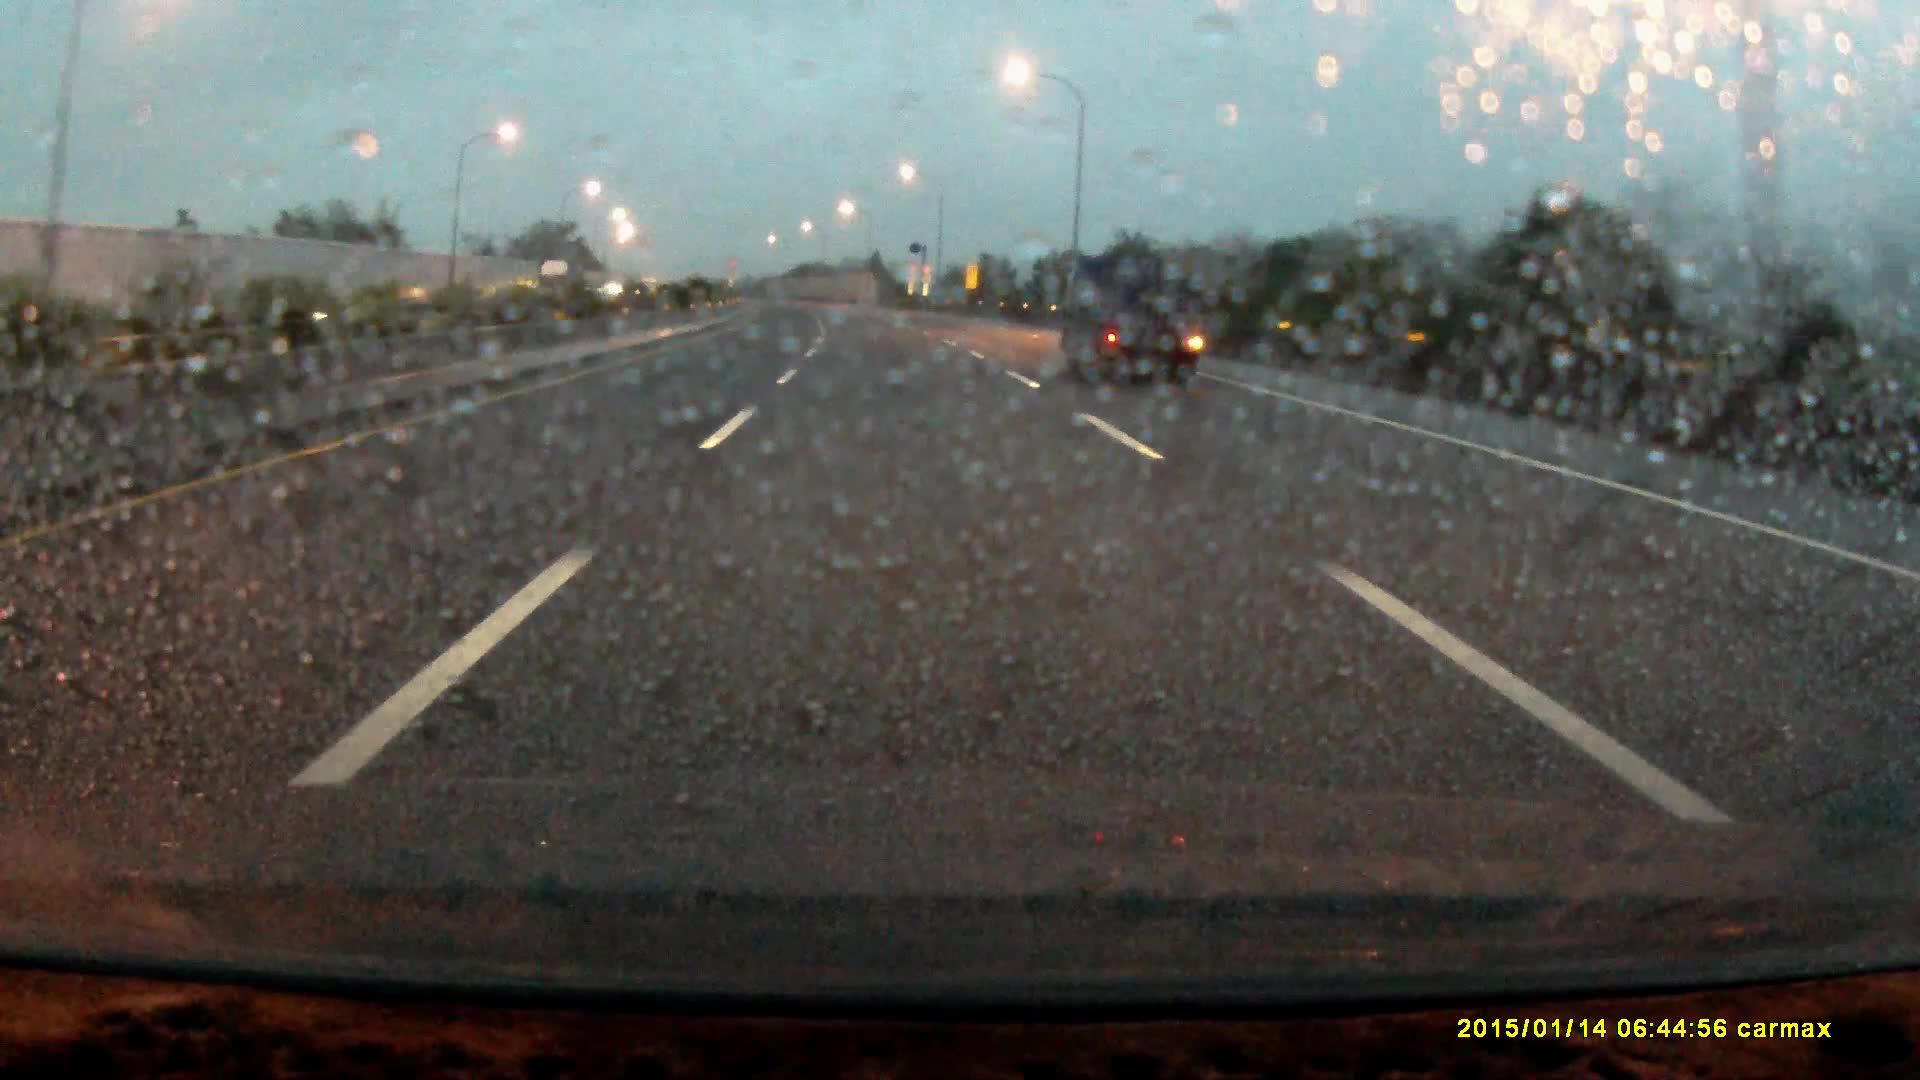vehicle: (1058, 255, 1203, 397), (539, 258, 582, 319)
